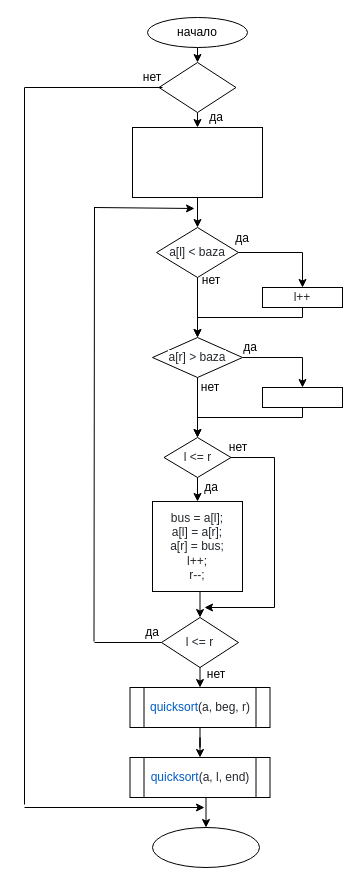
This 360x885 diagram has some shape labels left out. Each missing label, with the centre of its shape:
"beg < end" goes at point 197,87.
"int l = beg; int r = end; int baza = a[(l + r) / 2 ]; int bus;" goes at point 197,162.
"r--" goes at point 302,397.
"конец" goes at point 206,847.
